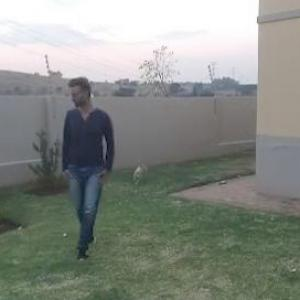follow: (70, 70, 119, 245)
